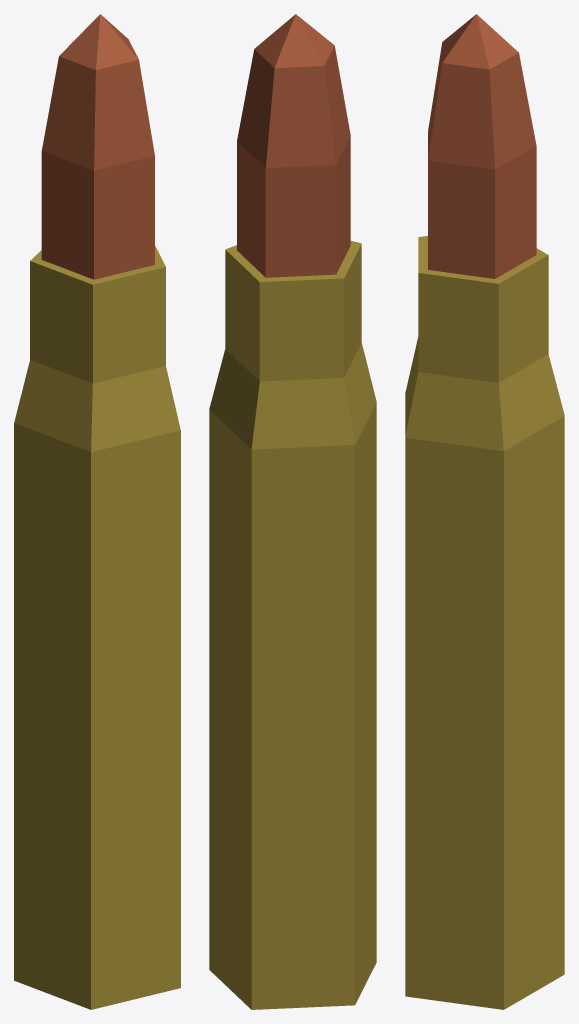
The model's file is LPWarPack_RifleRound.fbx.
The picture shows the model from 3 angles, left to right: view 1: azimuth 30°, elevation 25°; view 2: azimuth 150°, elevation 25°; view 3: azimuth 270°, elevation 25°; orthographic projection.
Visible parts, largest first — view 1: RifleRound; view 2: RifleRound; view 3: RifleRound.
Boxes of the visible parts, x1=… form: RifleRound: x1=14, y1=14, x2=180, y2=1009; RifleRound: x1=209, y1=14, x2=376, y2=1009; RifleRound: x1=405, y1=14, x2=564, y2=1009.
Size of the model in its own units: 1.11 by 7.01 by 1.06.
